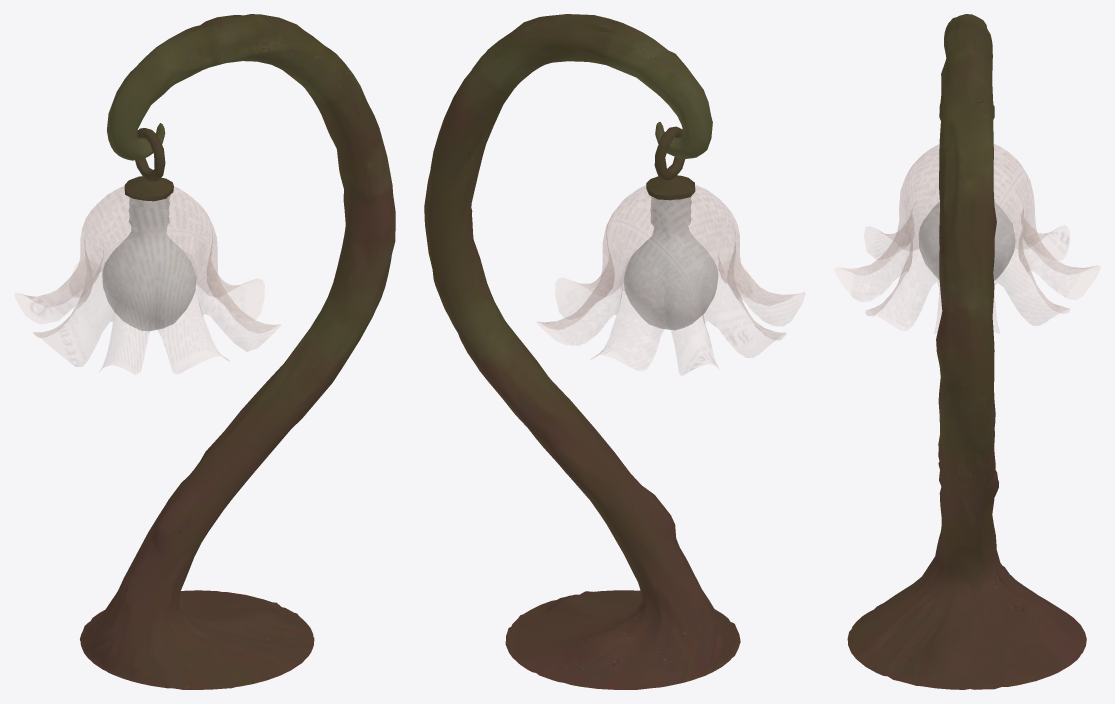
The model's file is lights_punctual_lamp.glb.
3 views of the same model, side by side, from view 1: azimuth 30°, elevation 25°; view 2: azimuth 150°, elevation 25°; view 3: azimuth 270°, elevation 25° (orthographic).
Bounding box in the file's own units: 1.13 × 1.86 × 0.7216.
3 materials, 3 textured.
